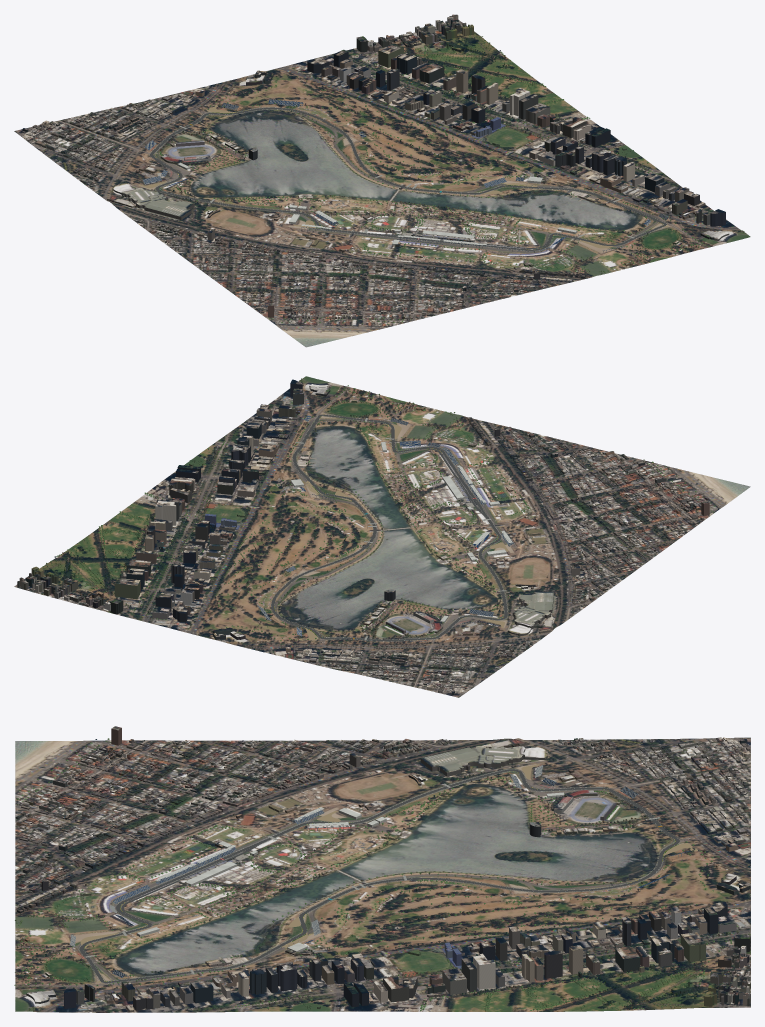
The model's file is albert-park.glb.
The picture shows the model from 3 angles, top to bottom: view 1: azimuth 30°, elevation 25°; view 2: azimuth 150°, elevation 25°; view 3: azimuth 270°, elevation 25°; orthographic projection. The views are drawn at different scales.
Parts seen in each view (by area): view 1: AlbertPark_Terrain, AlbertPark_Buildings, AlbertPark_Source_Roofs, AlbertPark_Vegetation, AlbertPark_Raceway, AlbertPark_Event_Barriers, AlbertPark_Grandstands, AlbertPark_Textured_Seat_Rows; view 2: AlbertPark_Terrain, AlbertPark_Source_Roofs, AlbertPark_Buildings, AlbertPark_Vegetation, AlbertPark_Raceway, AlbertPark_Event_Barriers, AlbertPark_Grandstands, AlbertPark_Textured_Seat_Rows, AlbertPark_Gravel_Runoff; view 3: AlbertPark_Terrain, AlbertPark_Buildings, AlbertPark_Source_Roofs, AlbertPark_Vegetation, AlbertPark_Raceway, AlbertPark_Event_Barriers, AlbertPark_Grandstands, AlbertPark_Textured_Seat_Rows, AlbertPark_Gravel_Runoff, AlbertPark_Main_Grandstand_Roof.
Boxes of the visible parts, left/top/right/bottom form: AlbertPark_Terrain: left=14, top=20, right=750, bottom=347; AlbertPark_Buildings: left=21, top=15, right=729, bottom=324; AlbertPark_Source_Roofs: left=21, top=14, right=728, bottom=323; AlbertPark_Vegetation: left=151, top=36, right=744, bottom=325; AlbertPark_Raceway: left=150, top=107, right=666, bottom=250; AlbertPark_Event_Barriers: left=149, top=107, right=666, bottom=251; AlbertPark_Grandstands: left=142, top=99, right=669, bottom=252; AlbertPark_Textured_Seat_Rows: left=143, top=99, right=668, bottom=251; AlbertPark_Terrain: left=14, top=376, right=750, bottom=697; AlbertPark_Source_Roofs: left=18, top=379, right=709, bottom=694; AlbertPark_Buildings: left=17, top=383, right=709, bottom=694; AlbertPark_Vegetation: left=42, top=378, right=718, bottom=640; AlbertPark_Raceway: left=271, top=414, right=507, bottom=641; AlbertPark_Event_Barriers: left=270, top=414, right=508, bottom=641; AlbertPark_Grandstands: left=257, top=415, right=514, bottom=643; AlbertPark_Textured_Seat_Rows: left=257, top=416, right=513, bottom=641; AlbertPark_Gravel_Runoff: left=299, top=413, right=508, bottom=640; AlbertPark_Terrain: left=15, top=737, right=750, bottom=1012; AlbertPark_Buildings: left=15, top=728, right=750, bottom=1012; AlbertPark_Source_Roofs: left=16, top=726, right=750, bottom=1010; AlbertPark_Vegetation: left=14, top=738, right=740, bottom=1011; AlbertPark_Raceway: left=79, top=769, right=679, bottom=983; AlbertPark_Event_Barriers: left=79, top=769, right=680, bottom=983; AlbertPark_Grandstands: left=69, top=765, right=683, bottom=987; AlbertPark_Textured_Seat_Rows: left=72, top=765, right=689, bottom=984; AlbertPark_Gravel_Runoff: left=80, top=764, right=697, bottom=982; AlbertPark_Main_Grandstand_Roof: left=155, top=807, right=348, bottom=881.
Size of the model in its own units: 1907 by 86.36 by 2164.
Materials: 19 (13 with a texture image).
